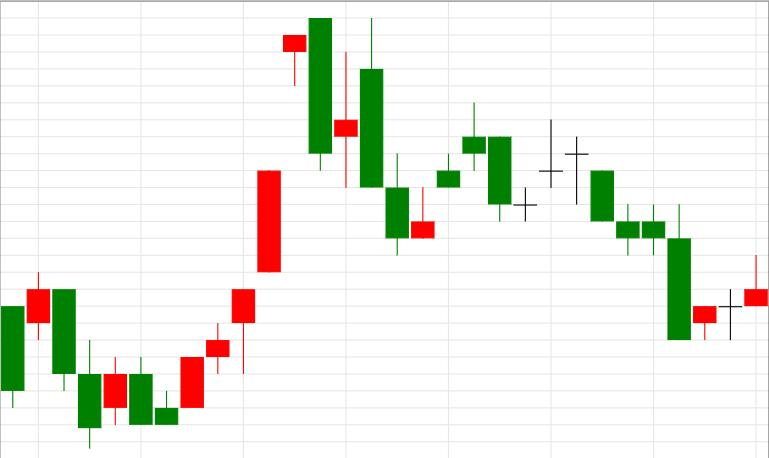bearish_engulfing_fall: (180, 19, 331, 407)
